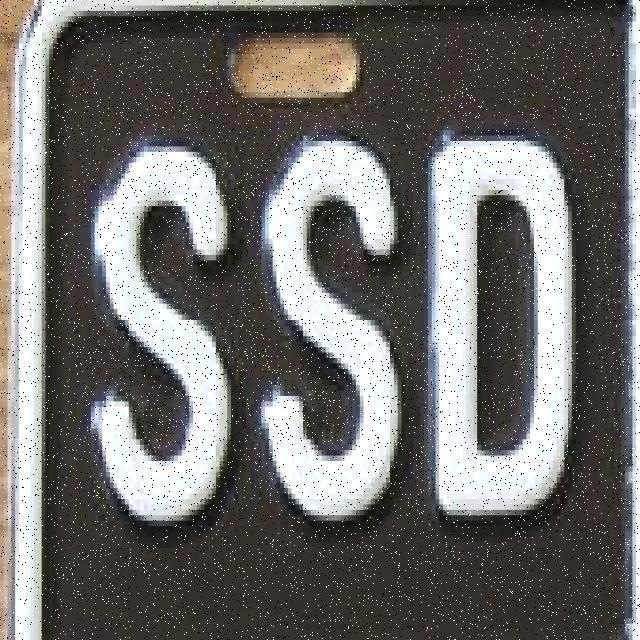LicensePlate: (14, 1, 628, 628)
